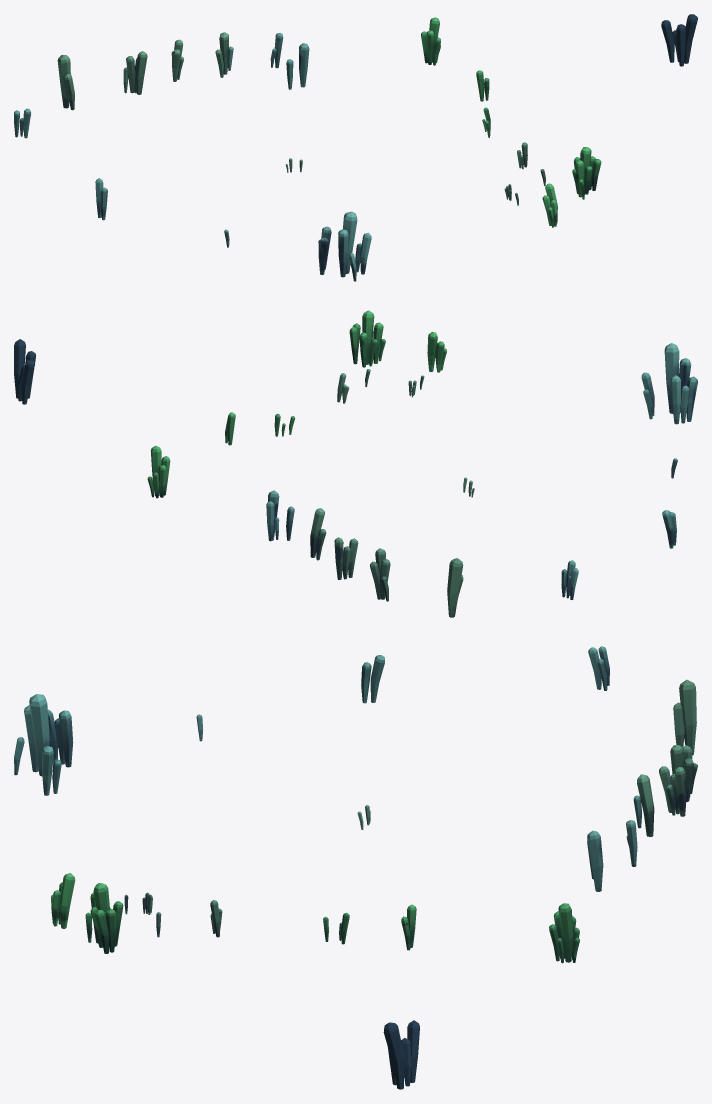
Rendered from Plant_02.FBX.
3 views of the same model, one above another, from view 1: azimuth 30°, elevation 25°; view 2: azimuth 150°, elevation 25°; view 3: azimuth 270°, elevation 25° (orthographic). The views are drawn at different scales.
Visible parts, largest first — view 1: Plant_02; view 2: Plant_02; view 3: Plant_02.
Boxes of the visible parts, x1,y1,x2,y2 form: Plant_02: [14, 14, 697, 281]; Plant_02: [14, 310, 697, 617]; Plant_02: [14, 646, 697, 1089].
Size of the model in its own units: 31.96 by 3.58 by 23.39.
